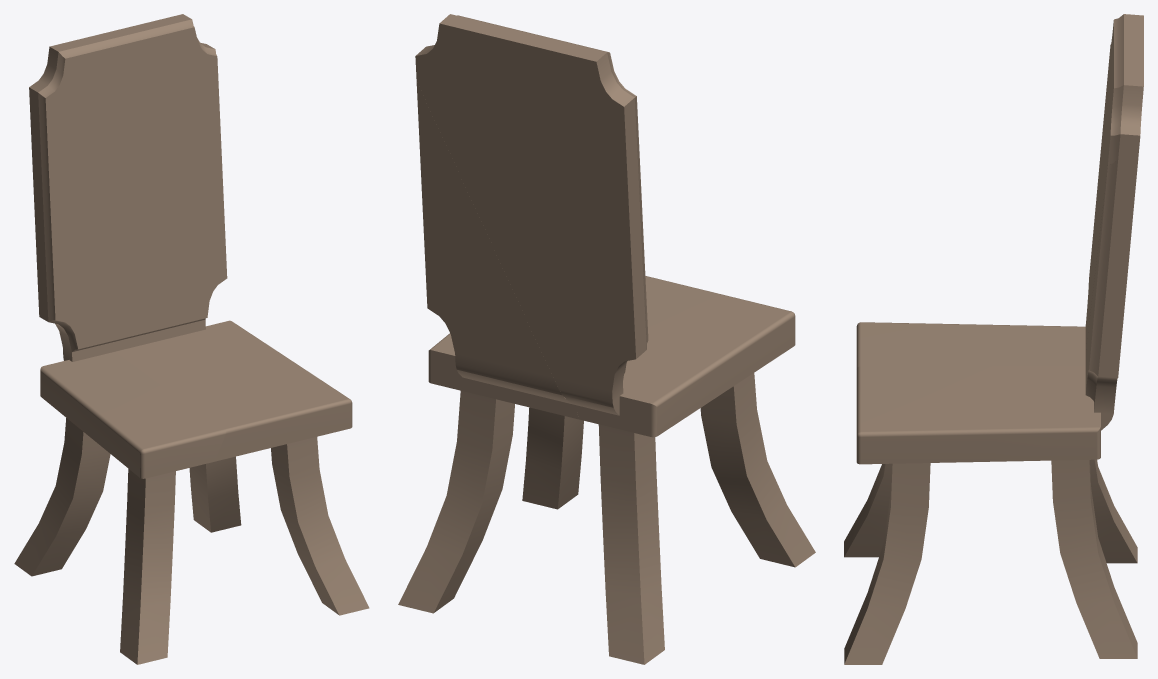
File: sliced_chair.fbx
3 views of the same model, side by side, from view 1: azimuth 30°, elevation 25°; view 2: azimuth 150°, elevation 25°; view 3: azimuth 270°, elevation 25° (orthographic). The views are drawn at different scales.
Visible parts, largest first — view 1: chair_left_half, chair_right_half; view 2: chair_left_half, chair_right_half; view 3: chair_right_half, chair_left_half.
Boxes of the visible parts, x1,y1,x2,y2 form: chair_left_half: (14, 14, 226, 664); chair_right_half: (119, 84, 369, 615); chair_left_half: (415, 14, 815, 664); chair_right_half: (398, 81, 694, 613); chair_right_half: (844, 159, 1138, 664); chair_left_half: (844, 14, 1143, 563).
Size of the model in its own units: 0.3907 by 0.8152 by 0.4.
